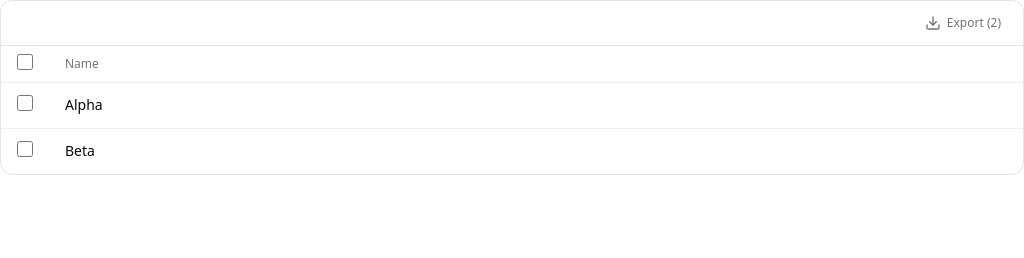
it: DataTable — unit › Row Selection › shows '1 item selected' (singular) when one row is selected
This screenshot has width=1024, height=258.
Click the checkbox next to "Alpha" at (25, 102), box [17,94,33,110]
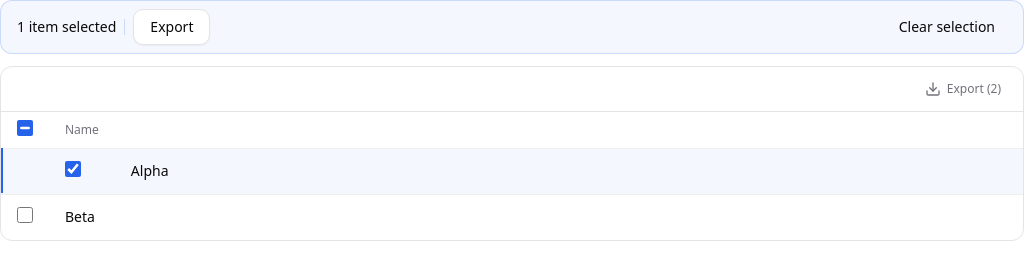
expect the text "1 item selected" is shown: met, box [17,17,116,37]
